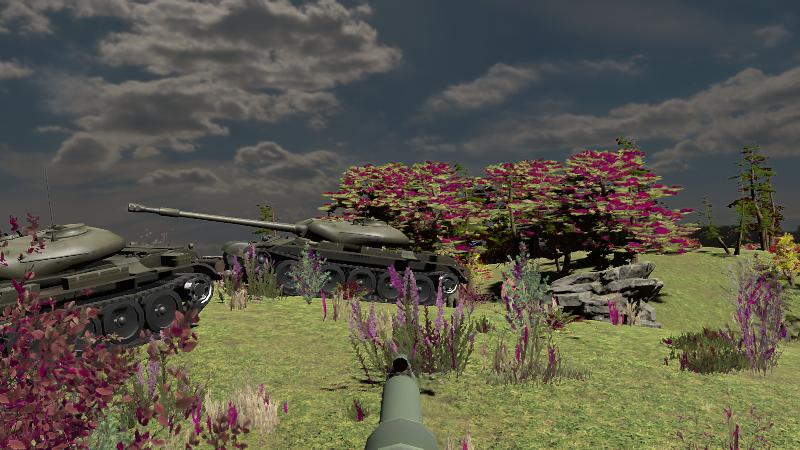Tank: (128, 202, 471, 304), (1, 224, 218, 367)
